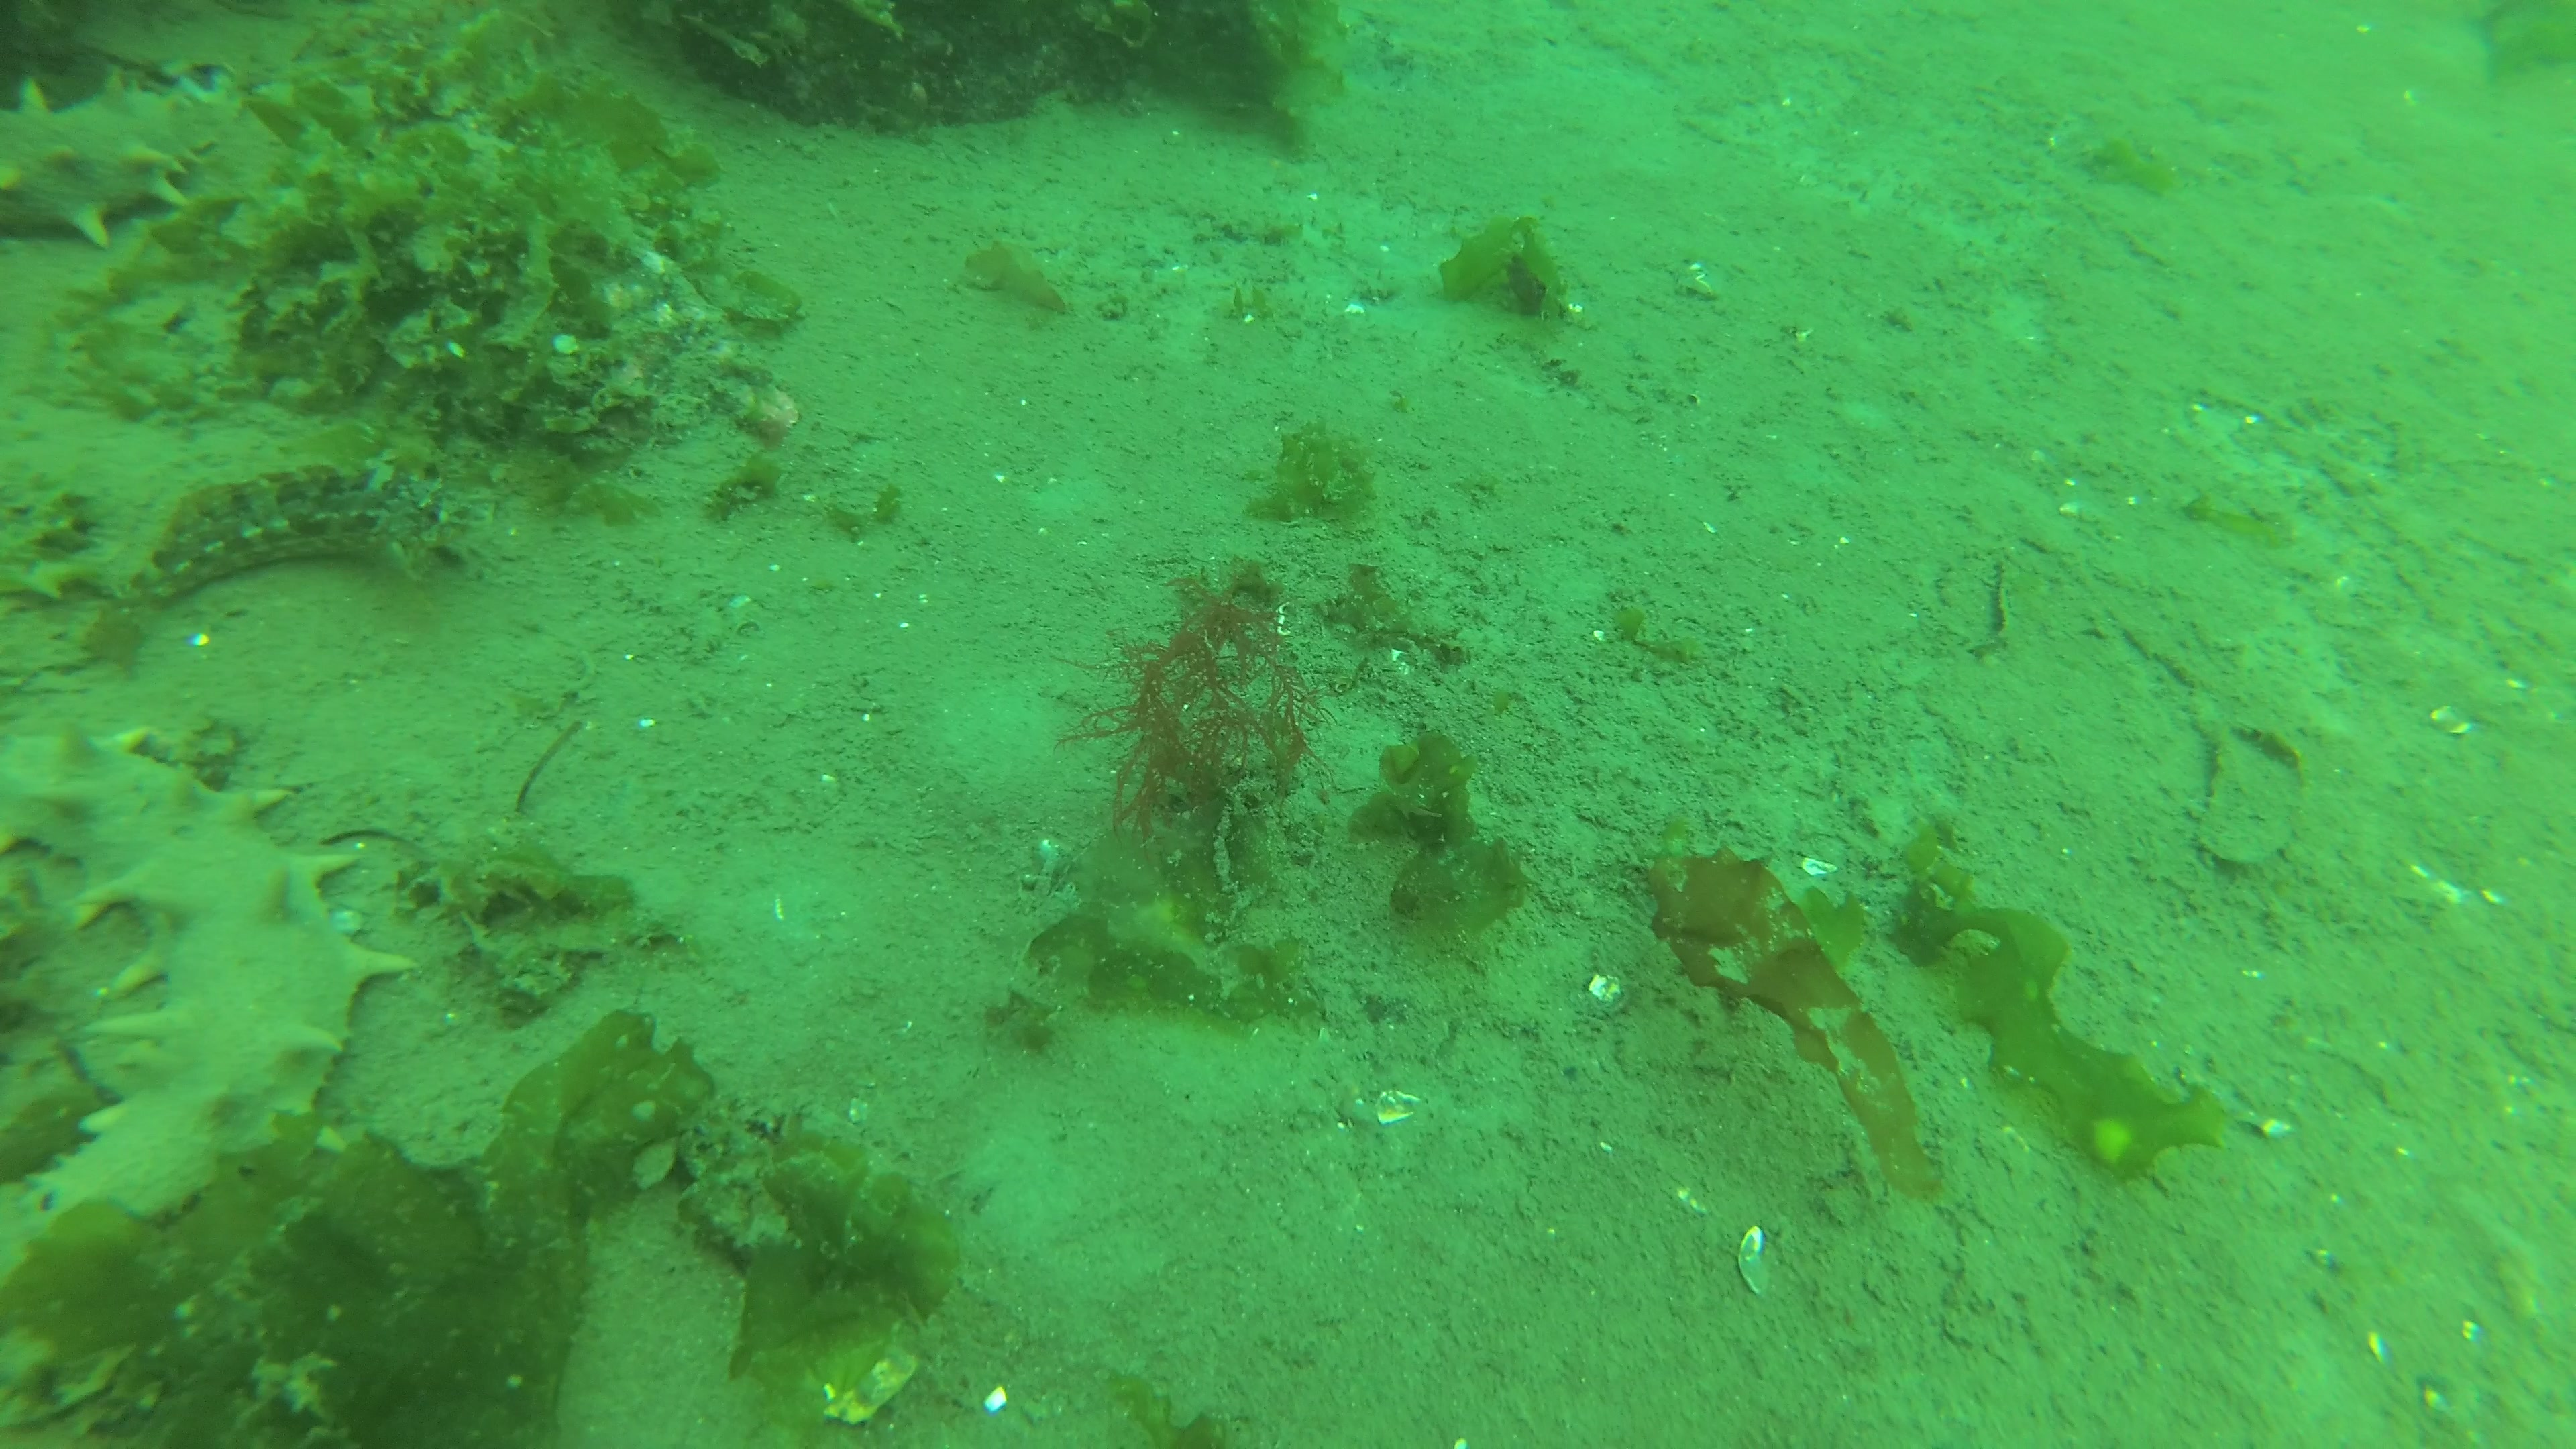holothurian: (0, 717, 419, 1272), (0, 62, 246, 249)
